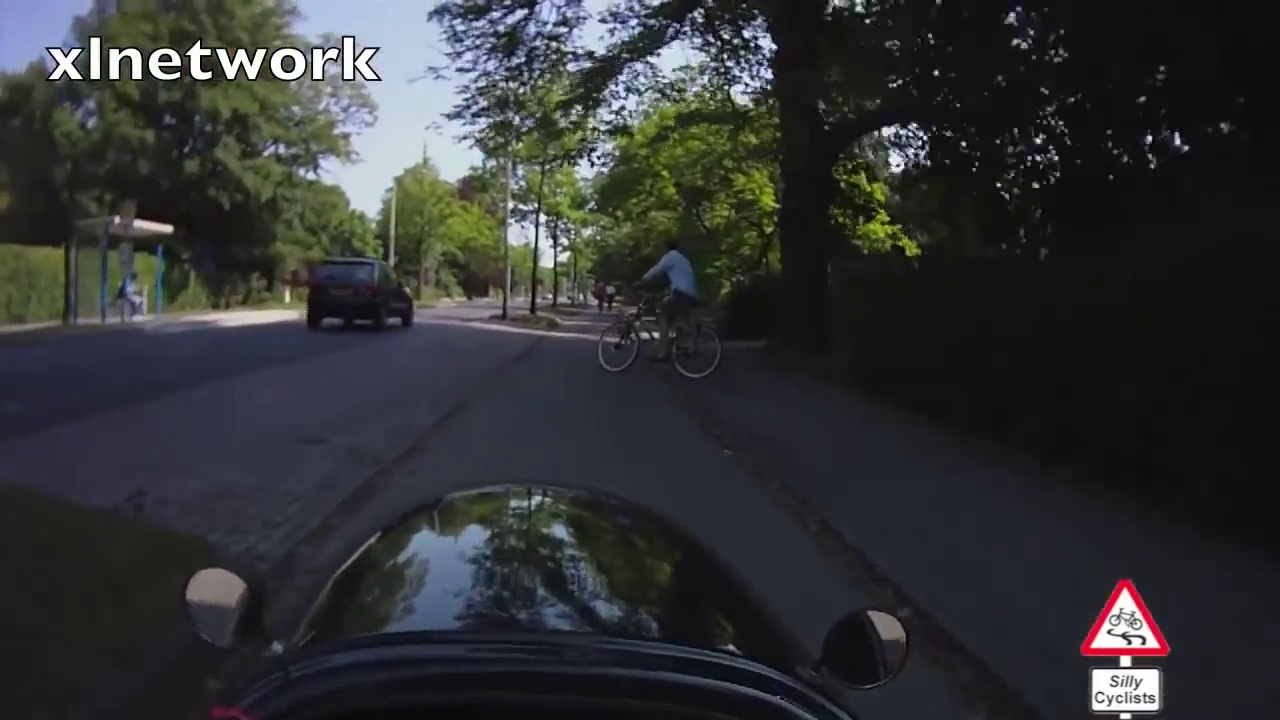cyclist_side: (592, 249, 724, 383)
